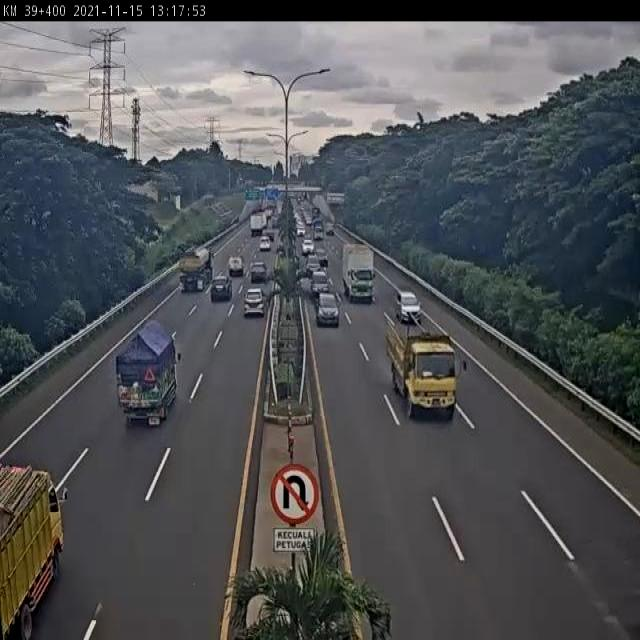Car: (393, 292, 423, 328), (315, 292, 340, 327), (243, 287, 266, 317), (210, 274, 232, 302), (310, 269, 329, 299), (250, 260, 268, 283), (302, 239, 314, 255), (259, 236, 271, 251)
Truck: (0, 463, 71, 640), (385, 320, 468, 421), (115, 321, 182, 428), (342, 243, 375, 305), (178, 247, 213, 295), (249, 213, 264, 238), (228, 255, 244, 278), (311, 218, 326, 240)
